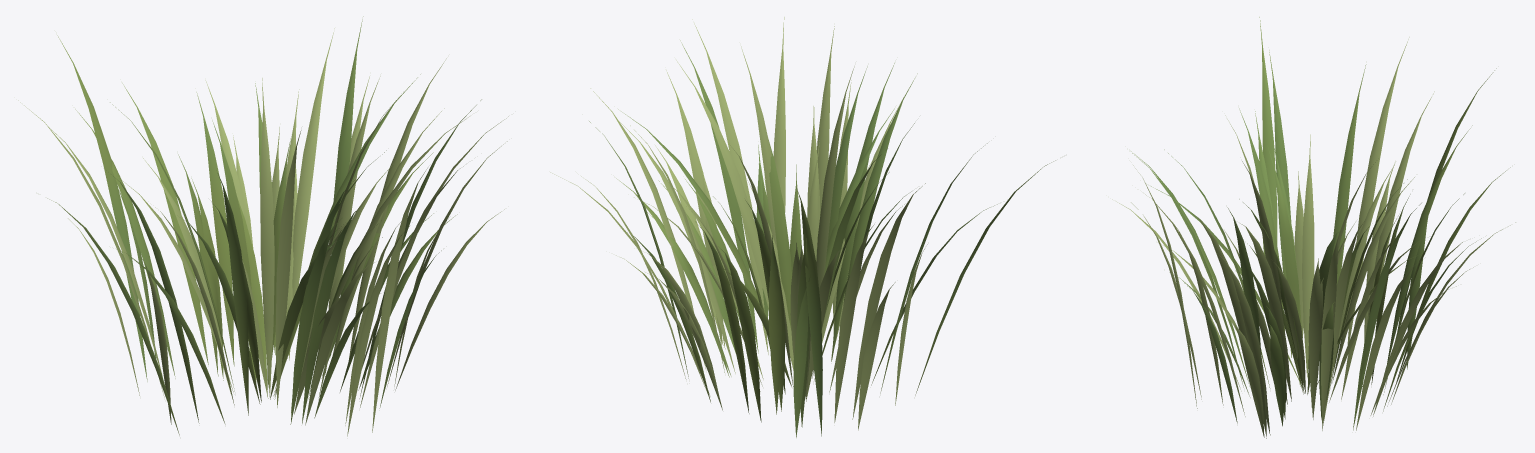
Rendered from tall_grass.glb.
3 views of the same model, side by side, from view 1: azimuth 30°, elevation 25°; view 2: azimuth 150°, elevation 25°; view 3: azimuth 270°, elevation 25° (orthographic). The views are drawn at different scales.
Visible parts, largest first — view 1: tall_grass; view 2: tall_grass; view 3: tall_grass.
Part boxes in pixels (bbox=[...]): tall_grass: bbox=[18, 16, 508, 436]; tall_grass: bbox=[550, 17, 1055, 437]; tall_grass: bbox=[1112, 17, 1515, 438].
Bounding box in the file's own units: 1.44 × 0.9341 × 1.24.
